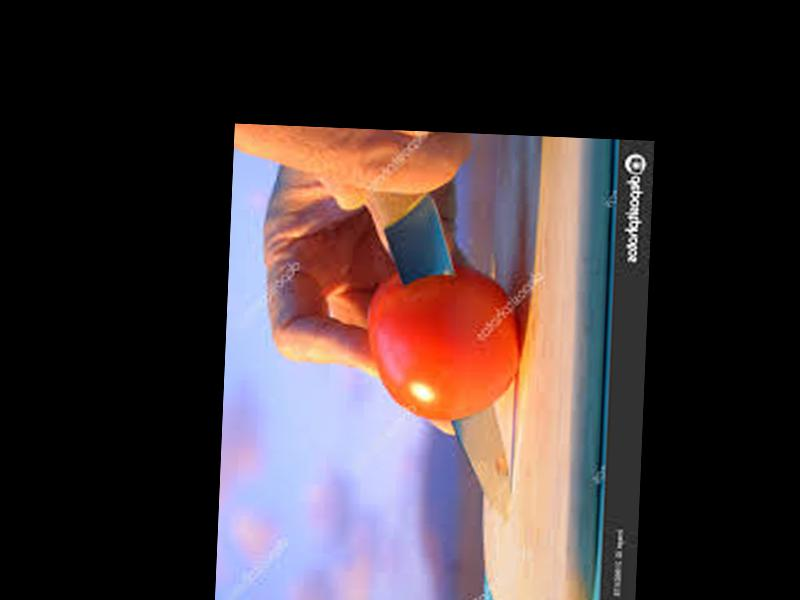Tomato: (365, 261, 526, 425)
